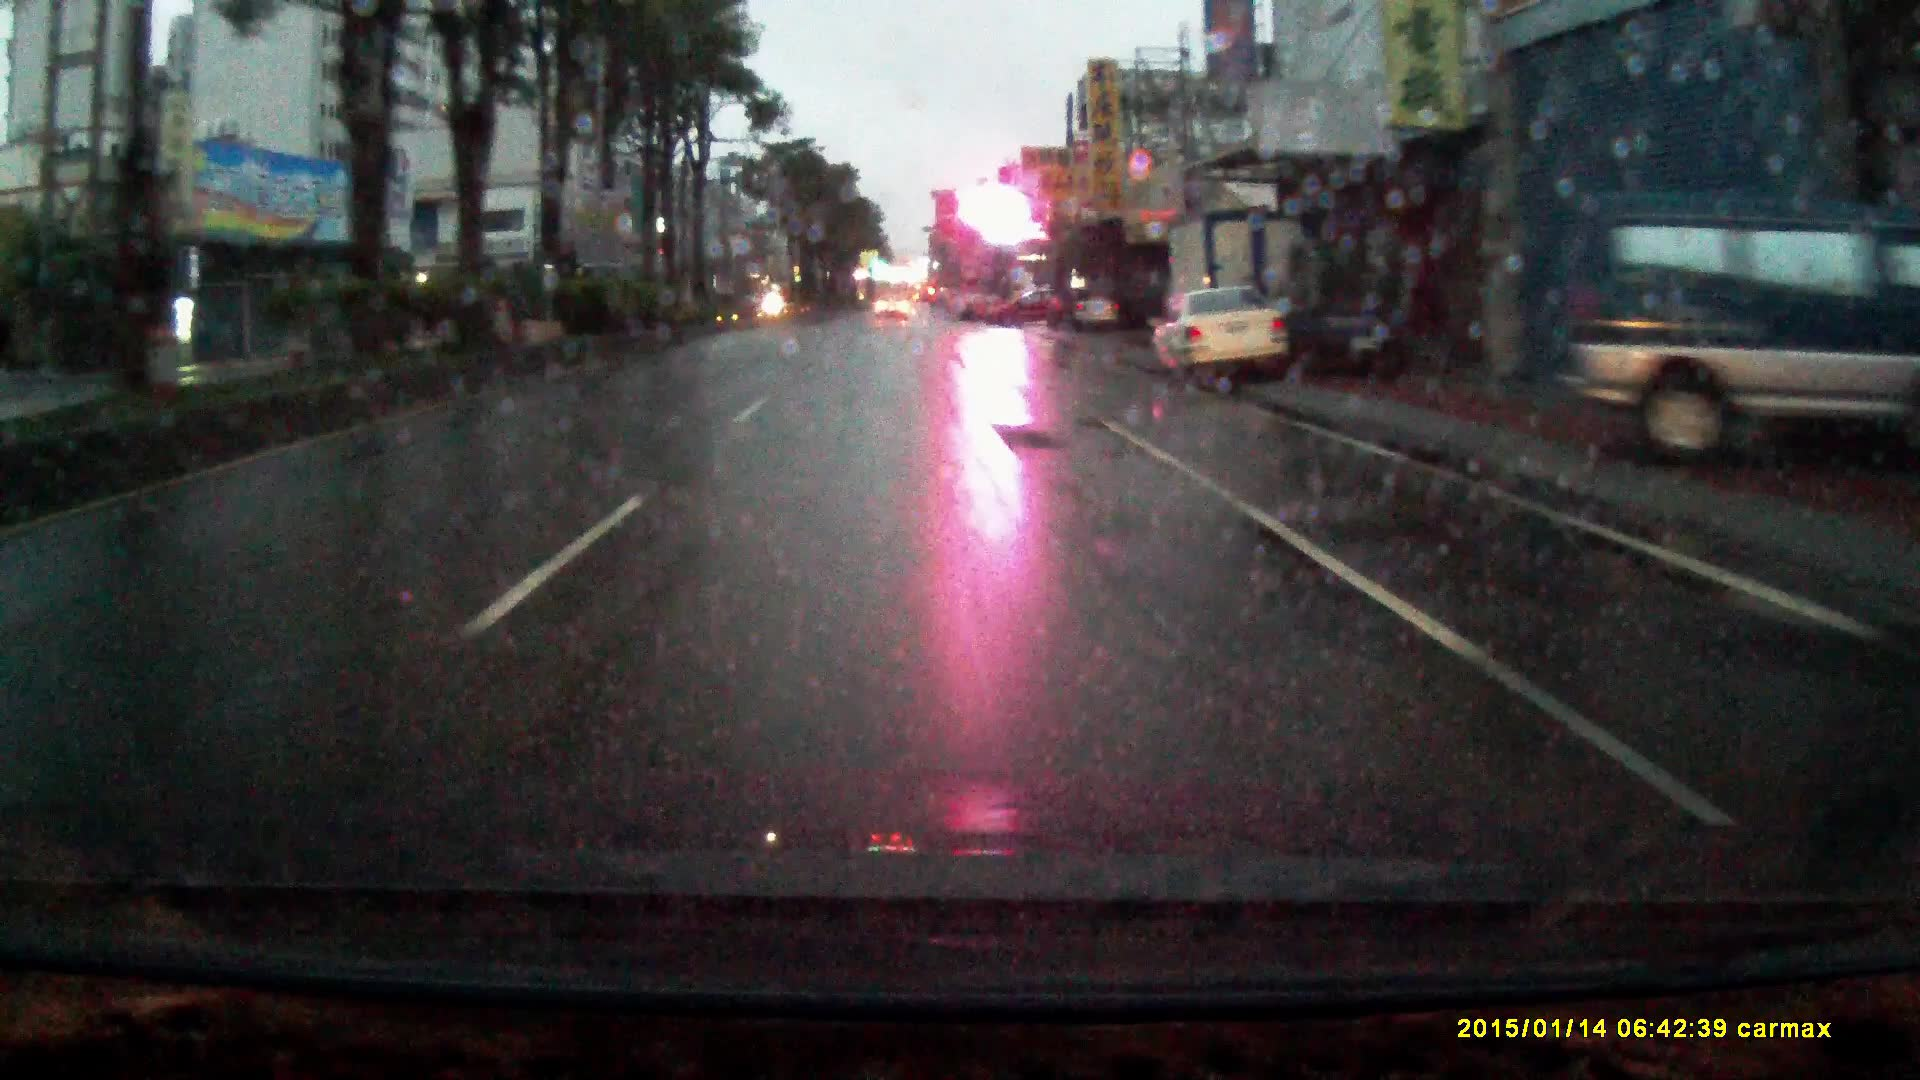vehicle: (1564, 189, 1898, 472), (1154, 214, 1323, 386), (1147, 284, 1298, 389), (982, 287, 1064, 331), (1065, 289, 1124, 335), (876, 298, 910, 328)
